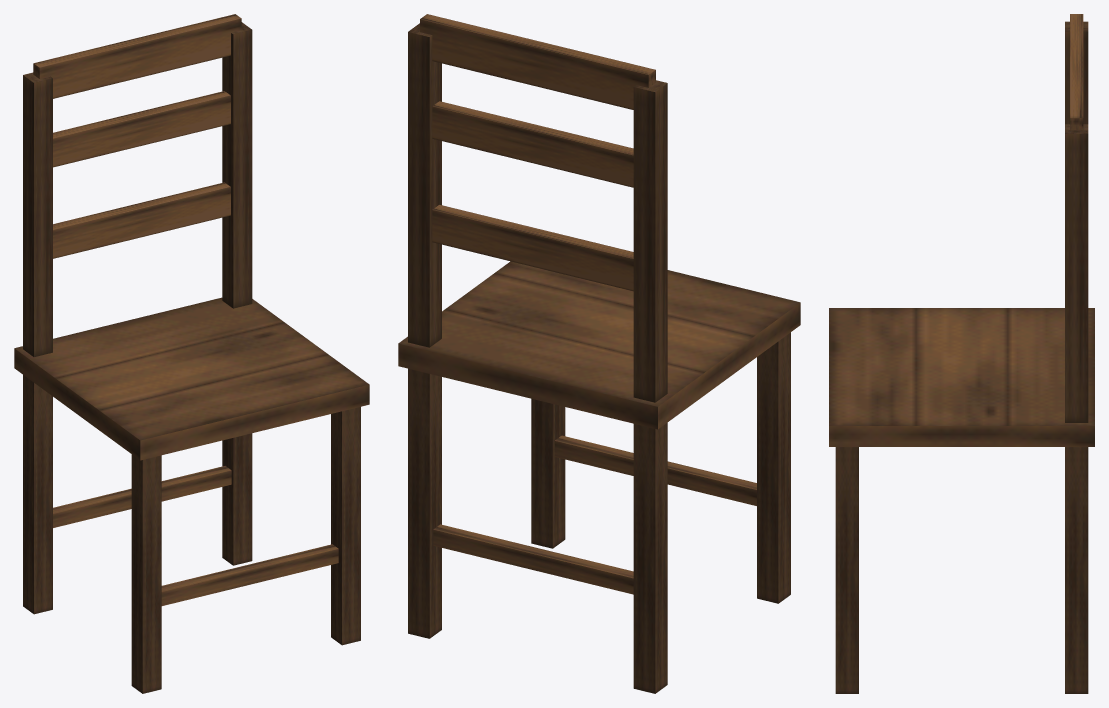
Rendered from chair_wooden.obj.
3 views of the same model, side by side, from view 1: azimuth 30°, elevation 25°; view 2: azimuth 150°, elevation 25°; view 3: azimuth 270°, elevation 25° (orthographic). The views are drawn at different scales.
Parts seen in each view (by area): view 1: chair_wooden; view 2: chair_wooden; view 3: chair_wooden.
Part boxes in pixels (left/top/right/bottom): chair_wooden: left=14, top=14, right=369, bottom=693; chair_wooden: left=398, top=14, right=800, bottom=693; chair_wooden: left=829, top=14, right=1094, bottom=693.
Size of the model in its own units: 0.42 by 0.95 by 0.4.
Materials: 1 (1 with a texture image).
